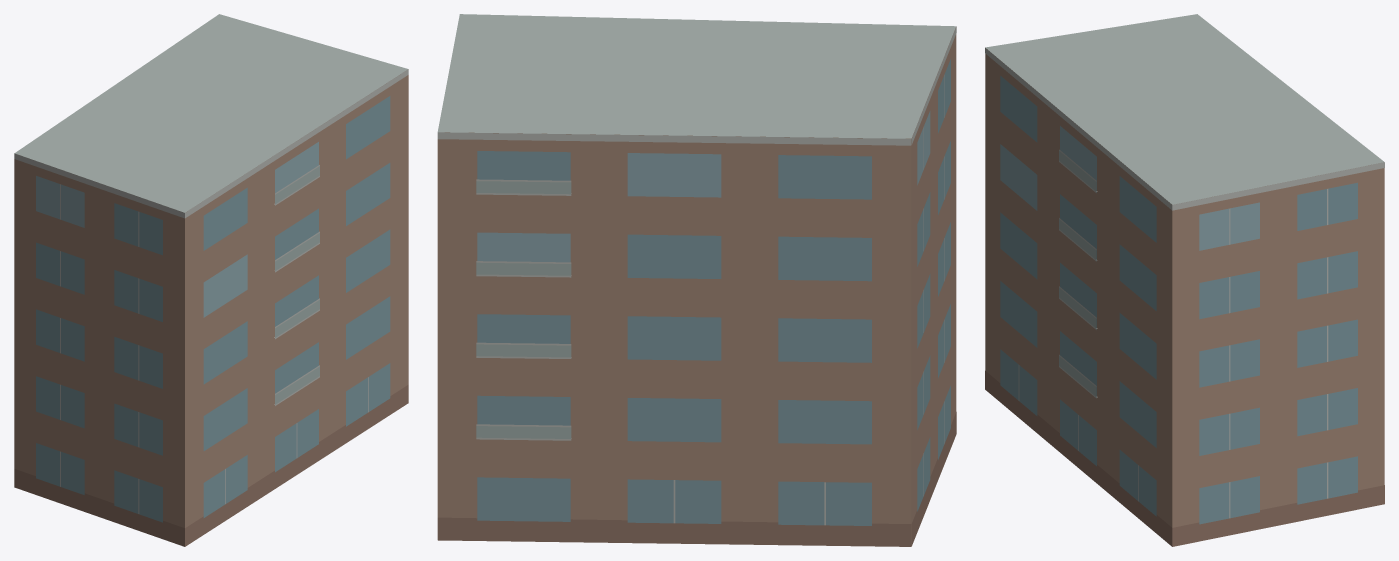
The model's file is survey-upis-32685819.glb.
3 renders of one model, left to right at view 1: azimuth 30°, elevation 25°; view 2: azimuth 150°, elevation 25°; view 3: azimuth 270°, elevation 25°, orthographic. The views are drawn at different scales.
Visible parts, largest first — view 1: survey-upis-32685819.tmp; view 2: survey-upis-32685819.tmp; view 3: survey-upis-32685819.tmp.
Part boxes in pixels (<box>): survey-upis-32685819.tmp: <box>14,14,408,546</box>; survey-upis-32685819.tmp: <box>437,14,956,546</box>; survey-upis-32685819.tmp: <box>985,14,1384,546</box>.
Bounding box in the file's own units: 17.24 × 14.4 × 15.26.
